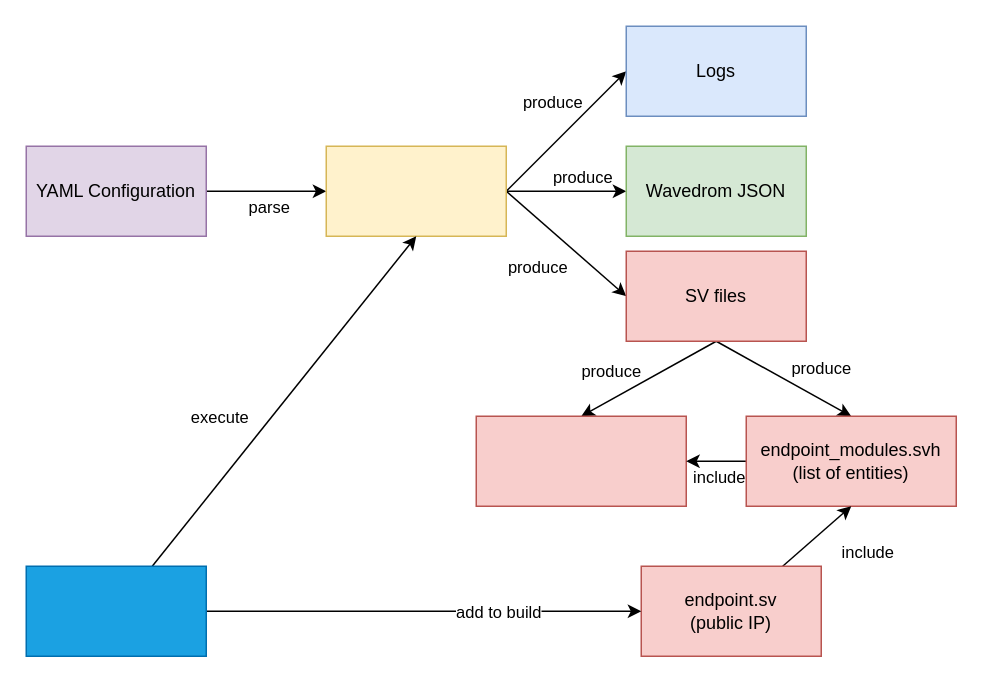
This 983x683 diagram has some shape labels left out. Here are the shapes that lost their labels. From the top down, the centre of each, then its label:
[415,190]: Python
[580,460]: endpoint_config.sv (package)
[115,610]: USER
